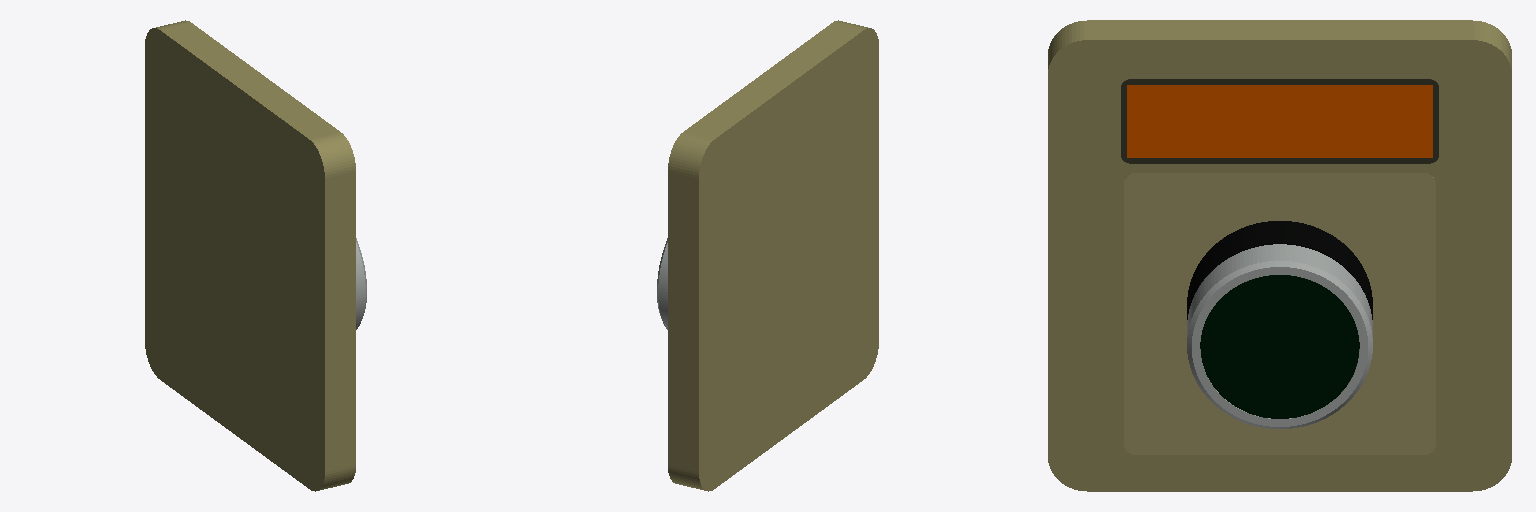
The robot description file, URDF, robot "protection_signal_reset_button":
<?xml version="1.0" ?>
<!-- =================================================================================== -->
<!-- |    This document was autogenerated by xacro from src/fugui_gazebo/urdf/fugui.urdf.xacro | -->
<!-- |    EDITING THIS FILE BY HAND IS NOT RECOMMENDED                                 | -->
<!-- =================================================================================== -->
<robot name="protection_signal_reset_button">
  <link name="fugui_mount_link">
    <inertial>
      <mass value="0.001"/>
      <inertia ixx="1.6666666666666669e-10" ixy="0" ixz="0" iyy="1.6666666666666669e-10" iyz="0" izz="1.6666666666666669e-10"/>
    </inertial>
  </link>
  <link name="world"/>
  <joint name="fugui_world_joint" type="fixed">
    <parent link="world"/>
    <child link="fugui_mount_link"/>
    <origin rpy="0 0 0" xyz="0 0 .12"/>
  </joint>
  <link name="fugui_frame_link">
    <inertial>
      <mass value="0.08"/>
      <inertia ixx="7.016666666666666e-05" ixy="0" ixz="0" iyy="3.782666666666667e-05" iyz="0" izz="3.299333333333334e-05"/>
    </inertial>
    <!-- Leave visual unnamed: Gazebo 11 applies link-level material extensions to its default visual. -->
    <visual>
      <origin xyz=".0035 0 0"/>
      <geometry>
        <mesh filename="package://fugui_gazebo/meshes/frame.stl"/>
      </geometry>
      <material name="frame_color">
        <color rgba="0.59 0.565 0.39 1"/>
      </material>
    </visual>
    <collision>
      <origin xyz=".0035 0 0"/>
      <geometry>
        <box size=".007 .07 .075"/>
      </geometry>
    </collision>
  </link>
  <joint name="fugui_mount_joint" type="fixed">
    <parent link="fugui_mount_link"/>
    <child link="fugui_frame_link"/>
    <origin xyz="0 0 0"/>
  </joint>
  <gazebo reference="fugui_frame_link">
    <visual>
      <material>
        <ambient>0.59 0.565 0.39 1</ambient>
        <diffuse>0.59 0.565 0.39 1</diffuse>
        <specular>0.2 0.2 0.2 1</specular>
      </material>
    </visual>
  </gazebo>
  <link name="fugui_insert_link">
    <inertial>
      <mass value="0.005"/>
      <inertia ixx="1.8408333333333334e-06" ixy="0" ixz="0" iyy="9.204541666666666e-07" iyz="0" izz="9.204541666666666e-07"/>
    </inertial>
    <!-- Leave visual unnamed: Gazebo 11 applies link-level material extensions to its default visual. -->
    <visual>
      <origin xyz=".00687 0 -.008"/>
      <geometry>
        <mesh filename="package://fugui_gazebo/meshes/insert.stl"/>
      </geometry>
      <material name="insert_color">
        <color rgba="0.64 0.61 0.44 1"/>
      </material>
    </visual>
  </link>
  <joint name="fugui_insert_joint" type="fixed">
    <parent link="fugui_frame_link"/>
    <child link="fugui_insert_link"/>
  </joint>
  <gazebo reference="fugui_insert_link">
    <visual>
      <material>
        <ambient>0.64 0.61 0.44 1</ambient>
        <diffuse>0.64 0.61 0.44 1</diffuse>
        <specular>0.2 0.2 0.2 1</specular>
      </material>
    </visual>
  </gazebo>
  <link name="fugui_label_link">
    <inertial>
      <mass value="0.001"/>
      <inertia ixx="2.0833333333333336e-07" ixy="0" ixz="0" iyy="1.6340833333333336e-08" iyz="0" izz="1.920075e-07"/>
    </inertial>
    <!-- Leave visual unnamed: Gazebo 11 applies link-level material extensions to its default visual. -->
    <visual>
      <origin xyz=".00687 0 .024"/>
      <geometry>
        <mesh filename="package://fugui_gazebo/meshes/label_recess.stl"/>
      </geometry>
      <material name="label_recess_color">
        <color rgba="0.25 0.245 0.19 1"/>
      </material>
    </visual>
  </link>
  <joint name="fugui_label_joint" type="fixed">
    <parent link="fugui_frame_link"/>
    <child link="fugui_label_link"/>
  </joint>
  <gazebo reference="fugui_label_link">
    <visual>
      <material>
        <ambient>0.25 0.245 0.19 1</ambient>
        <diffuse>0.25 0.245 0.19 1</diffuse>
        <specular>0.2 0.2 0.2 1</specular>
      </material>
    </visual>
  </gazebo>
  <link name="fugui_nameplate_link">
    <inertial>
      <mass value="0.001"/>
      <inertia ixx="1.8833333333333334e-07" ixy="0" ixz="0" iyy="1.2000833333333333e-08" iyz="0" izz="1.7633416666666667e-07"/>
    </inertial>
    <visual>
      <origin xyz=".00704 0 .024"/>
      <geometry>
        <mesh filename="package://fugui_gazebo/meshes/nameplate.dae"/>
      </geometry>
    </visual>
  </link>
  <joint name="fugui_nameplate_joint" type="fixed">
    <parent link="fugui_frame_link"/>
    <child link="fugui_nameplate_link"/>
  </joint>
  <link name="fugui_sleeve_link">
    <inertial>
      <mass value="0.02"/>
      <inertia ixx="2.613333333333334e-06" ixy="0" ixz="0" iyy="1.4133333333333337e-06" iyz="0" izz="1.4133333333333337e-06"/>
    </inertial>
    <!-- Leave visual unnamed: Gazebo 11 applies link-level material extensions to its default visual. -->
    <visual>
      <origin xyz=".007 0 -.0065"/>
      <geometry>
        <mesh filename="package://fugui_gazebo/meshes/rear_sleeve.stl"/>
      </geometry>
      <material name="rear_sleeve_color">
        <color rgba="0.055 0.060 0.055 1"/>
      </material>
    </visual>
    <collision>
      <origin rpy="0.0 0 0" xyz="0.011 0.013025 -0.0065"/>
      <geometry>
        <box size="0.008 0.00195 0.00238"/>
      </geometry>
    </collision>
    <collision>
      <origin rpy="0.19634954084936207 0 0" xyz="0.011 0.012774728277252076 -0.003958948555739929"/>
      <geometry>
        <box size="0.008 0.00195 0.00238"/>
      </geometry>
    </collision>
    <collision>
      <origin rpy="0.39269908169872414 0 0" xyz="0.011 0.01203353091095951 -0.0015155482934447054"/>
      <geometry>
        <box size="0.008 0.00195 0.00238"/>
      </geometry>
    </collision>
    <collision>
      <origin rpy="0.5890486225480862 0 0" xyz="0.011 0.010829891700240651 0.000736302285080319"/>
      <geometry>
        <box size="0.008 0.00195 0.00238"/>
      </geometry>
    </collision>
    <collision>
      <origin rpy="0.7853981633974483 0 0" xyz="0.011 0.009210065824954781 0.002710065824954782"/>
      <geometry>
        <box size="0.008 0.00195 0.00238"/>
      </geometry>
    </collision>
    <collision>
      <origin rpy="0.9817477042468103 0 0" xyz="0.011 0.00723630228508032 0.004329891700240652"/>
      <geometry>
        <box size="0.008 0.00195 0.00238"/>
      </geometry>
    </collision>
    <collision>
      <origin rpy="1.1780972450961724 0 0" xyz="0.011 0.004984451706555295 0.00553353091095951"/>
      <geometry>
        <box size="0.008 0.00195 0.00238"/>
      </geometry>
    </collision>
    <collision>
      <origin rpy="1.3744467859455345 0 0" xyz="0.011 0.0025410514442600713 0.006274728277252077"/>
      <geometry>
        <box size="0.008 0.00195 0.00238"/>
      </geometry>
    </collision>
    <collision>
      <origin rpy="1.5707963267948966 0 0" xyz="0.011 7.975512279447138e-19 0.006525"/>
      <geometry>
        <box size="0.008 0.00195 0.00238"/>
      </geometry>
    </collision>
    <collision>
      <origin rpy="1.7671458676442586 0 0" xyz="0.011 -0.0025410514442600696 0.006274728277252077"/>
      <geometry>
        <box size="0.008 0.00195 0.00238"/>
      </geometry>
    </collision>
    <collision>
      <origin rpy="1.9634954084936207 0 0" xyz="0.011 -0.004984451706555293 0.00553353091095951"/>
      <geometry>
        <box size="0.008 0.00195 0.00238"/>
      </geometry>
    </collision>
    <collision>
      <origin rpy="2.1598449493429825 0 0" xyz="0.011 -0.007236302285080315 0.004329891700240655"/>
      <geometry>
        <box size="0.008 0.00195 0.00238"/>
      </geometry>
    </collision>
    <collision>
      <origin rpy="2.356194490192345 0 0" xyz="0.011 -0.009210065824954781 0.002710065824954782"/>
      <geometry>
        <box size="0.008 0.00195 0.00238"/>
      </geometry>
    </collision>
    <collision>
      <origin rpy="2.552544031041707 0 0" xyz="0.011 -0.010829891700240653 0.000736302285080319"/>
      <geometry>
        <box size="0.008 0.00195 0.00238"/>
      </geometry>
    </collision>
    <collision>
      <origin rpy="2.748893571891069 0 0" xyz="0.011 -0.01203353091095951 -0.0015155482934447037"/>
      <geometry>
        <box size="0.008 0.00195 0.00238"/>
      </geometry>
    </collision>
    <collision>
      <origin rpy="2.945243112740431 0 0" xyz="0.011 -0.012774728277252076 -0.003958948555739925"/>
      <geometry>
        <box size="0.008 0.00195 0.00238"/>
      </geometry>
    </collision>
    <collision>
      <origin rpy="3.141592653589793 0 0" xyz="0.011 -0.013025 -0.006499999999999998"/>
      <geometry>
        <box size="0.008 0.00195 0.00238"/>
      </geometry>
    </collision>
    <collision>
      <origin rpy="3.3379421944391554 0 0" xyz="0.011 -0.012774728277252076 -0.009041051444260071"/>
      <geometry>
        <box size="0.008 0.00195 0.00238"/>
      </geometry>
    </collision>
    <collision>
      <origin rpy="3.5342917352885173 0 0" xyz="0.011 -0.012033530910959512 -0.011484451706555293"/>
      <geometry>
        <box size="0.008 0.00195 0.00238"/>
      </geometry>
    </collision>
    <collision>
      <origin rpy="3.730641276137879 0 0" xyz="0.011 -0.010829891700240655 -0.013736302285080316"/>
      <geometry>
        <box size="0.008 0.00195 0.00238"/>
      </geometry>
    </collision>
    <collision>
      <origin rpy="3.9269908169872414 0 0" xyz="0.011 -0.009210065824954783 -0.01571006582495478"/>
      <geometry>
        <box size="0.008 0.00195 0.00238"/>
      </geometry>
    </collision>
    <collision>
      <origin rpy="4.123340357836604 0 0" xyz="0.011 -0.007236302285080319 -0.01732989170024065"/>
      <geometry>
        <box size="0.008 0.00195 0.00238"/>
      </geometry>
    </collision>
    <collision>
      <origin rpy="4.319689898685965 0 0" xyz="0.011 -0.004984451706555302 -0.018533530910959505"/>
      <geometry>
        <box size="0.008 0.00195 0.00238"/>
      </geometry>
    </collision>
    <collision>
      <origin rpy="4.516039439535327 0 0" xyz="0.011 -0.0025410514442600757 -0.019274728277252073"/>
      <geometry>
        <box size="0.008 0.00195 0.00238"/>
      </geometry>
    </collision>
    <collision>
      <origin rpy="4.71238898038469 0 0" xyz="0.011 -2.392653683834141e-18 -0.019525"/>
      <geometry>
        <box size="0.008 0.00195 0.00238"/>
      </geometry>
    </collision>
    <collision>
      <origin rpy="4.908738521234052 0 0" xyz="0.011 0.0025410514442600713 -0.019274728277252077"/>
      <geometry>
        <box size="0.008 0.00195 0.00238"/>
      </geometry>
    </collision>
    <collision>
      <origin rpy="5.105088062083414 0 0" xyz="0.011 0.004984451706555298 -0.01853353091095951"/>
      <geometry>
        <box size="0.008 0.00195 0.00238"/>
      </geometry>
    </collision>
    <collision>
      <origin rpy="5.301437602932776 0 0" xyz="0.011 0.007236302285080314 -0.017329891700240654"/>
      <geometry>
        <box size="0.008 0.00195 0.00238"/>
      </geometry>
    </collision>
    <collision>
      <origin rpy="5.497787143782138 0 0" xyz="0.011 0.00921006582495478 -0.015710065824954784"/>
      <geometry>
        <box size="0.008 0.00195 0.00238"/>
      </geometry>
    </collision>
    <collision>
      <origin rpy="5.6941366846315 0 0" xyz="0.011 0.010829891700240651 -0.01373630228508032"/>
      <geometry>
        <box size="0.008 0.00195 0.00238"/>
      </geometry>
    </collision>
    <collision>
      <origin rpy="5.890486225480862 0 0" xyz="0.011 0.012033530910959506 -0.011484451706555302"/>
      <geometry>
        <box size="0.008 0.00195 0.00238"/>
      </geometry>
    </collision>
    <collision>
      <origin rpy="6.086835766330224 0 0" xyz="0.011 0.012774728277252075 -0.009041051444260076"/>
      <geometry>
        <box size="0.008 0.00195 0.00238"/>
      </geometry>
    </collision>
  </link>
  <joint name="fugui_sleeve_joint" type="fixed">
    <parent link="fugui_frame_link"/>
    <child link="fugui_sleeve_link"/>
  </joint>
  <gazebo reference="fugui_sleeve_link">
    <visual>
      <material>
        <ambient>0.055 0.060 0.055 1</ambient>
        <diffuse>0.055 0.060 0.055 1</diffuse>
        <specular>0.2 0.2 0.2 1</specular>
      </material>
    </visual>
  </gazebo>
  <link name="fugui_guard_link">
    <inertial>
      <mass value="0.025"/>
      <inertia ixx="3.266666666666667e-06" ixy="0" ixz="0" iyy="1.735416666666667e-06" iyz="0" izz="1.735416666666667e-06"/>
    </inertial>
    <!-- Leave visual unnamed: Gazebo 11 applies link-level material extensions to its default visual. -->
    <visual>
      <origin xyz=".015 0 -.0065"/>
      <geometry>
        <mesh filename="package://fugui_gazebo/meshes/guard_ring.stl"/>
      </geometry>
      <material name="guard_ring_color">
        <color rgba="0.67 0.69 0.68 1"/>
      </material>
    </visual>
    <collision>
      <origin rpy="0.0 0 0" xyz="0.0185 0.013025 -0.0065"/>
      <geometry>
        <box size="0.007 0.00195 0.00238"/>
      </geometry>
    </collision>
    <collision>
      <origin rpy="0.19634954084936207 0 0" xyz="0.0185 0.012774728277252076 -0.003958948555739929"/>
      <geometry>
        <box size="0.007 0.00195 0.00238"/>
      </geometry>
    </collision>
    <collision>
      <origin rpy="0.39269908169872414 0 0" xyz="0.0185 0.01203353091095951 -0.0015155482934447054"/>
      <geometry>
        <box size="0.007 0.00195 0.00238"/>
      </geometry>
    </collision>
    <collision>
      <origin rpy="0.5890486225480862 0 0" xyz="0.0185 0.010829891700240651 0.000736302285080319"/>
      <geometry>
        <box size="0.007 0.00195 0.00238"/>
      </geometry>
    </collision>
    <collision>
      <origin rpy="0.7853981633974483 0 0" xyz="0.0185 0.009210065824954781 0.002710065824954782"/>
      <geometry>
        <box size="0.007 0.00195 0.00238"/>
      </geometry>
    </collision>
    <collision>
      <origin rpy="0.9817477042468103 0 0" xyz="0.0185 0.00723630228508032 0.004329891700240652"/>
      <geometry>
        <box size="0.007 0.00195 0.00238"/>
      </geometry>
    </collision>
    <collision>
      <origin rpy="1.1780972450961724 0 0" xyz="0.0185 0.004984451706555295 0.00553353091095951"/>
      <geometry>
        <box size="0.007 0.00195 0.00238"/>
      </geometry>
    </collision>
    <collision>
      <origin rpy="1.3744467859455345 0 0" xyz="0.0185 0.0025410514442600713 0.006274728277252077"/>
      <geometry>
        <box size="0.007 0.00195 0.00238"/>
      </geometry>
    </collision>
    <collision>
      <origin rpy="1.5707963267948966 0 0" xyz="0.0185 7.975512279447138e-19 0.006525"/>
      <geometry>
        <box size="0.007 0.00195 0.00238"/>
      </geometry>
    </collision>
    <collision>
      <origin rpy="1.7671458676442586 0 0" xyz="0.0185 -0.0025410514442600696 0.006274728277252077"/>
      <geometry>
        <box size="0.007 0.00195 0.00238"/>
      </geometry>
    </collision>
    <collision>
      <origin rpy="1.9634954084936207 0 0" xyz="0.0185 -0.004984451706555293 0.00553353091095951"/>
      <geometry>
        <box size="0.007 0.00195 0.00238"/>
      </geometry>
    </collision>
    <collision>
      <origin rpy="2.1598449493429825 0 0" xyz="0.0185 -0.007236302285080315 0.004329891700240655"/>
      <geometry>
        <box size="0.007 0.00195 0.00238"/>
      </geometry>
    </collision>
    <collision>
      <origin rpy="2.356194490192345 0 0" xyz="0.0185 -0.009210065824954781 0.002710065824954782"/>
      <geometry>
        <box size="0.007 0.00195 0.00238"/>
      </geometry>
    </collision>
    <collision>
      <origin rpy="2.552544031041707 0 0" xyz="0.0185 -0.010829891700240653 0.000736302285080319"/>
      <geometry>
        <box size="0.007 0.00195 0.00238"/>
      </geometry>
    </collision>
    <collision>
      <origin rpy="2.748893571891069 0 0" xyz="0.0185 -0.01203353091095951 -0.0015155482934447037"/>
      <geometry>
        <box size="0.007 0.00195 0.00238"/>
      </geometry>
    </collision>
    <collision>
      <origin rpy="2.945243112740431 0 0" xyz="0.0185 -0.012774728277252076 -0.003958948555739925"/>
      <geometry>
        <box size="0.007 0.00195 0.00238"/>
      </geometry>
    </collision>
    <collision>
      <origin rpy="3.141592653589793 0 0" xyz="0.0185 -0.013025 -0.006499999999999998"/>
      <geometry>
        <box size="0.007 0.00195 0.00238"/>
      </geometry>
    </collision>
    <collision>
      <origin rpy="3.3379421944391554 0 0" xyz="0.0185 -0.012774728277252076 -0.009041051444260071"/>
      <geometry>
        <box size="0.007 0.00195 0.00238"/>
      </geometry>
    </collision>
    <collision>
      <origin rpy="3.5342917352885173 0 0" xyz="0.0185 -0.012033530910959512 -0.011484451706555293"/>
      <geometry>
        <box size="0.007 0.00195 0.00238"/>
      </geometry>
    </collision>
    <collision>
      <origin rpy="3.730641276137879 0 0" xyz="0.0185 -0.010829891700240655 -0.013736302285080316"/>
      <geometry>
        <box size="0.007 0.00195 0.00238"/>
      </geometry>
    </collision>
    <collision>
      <origin rpy="3.9269908169872414 0 0" xyz="0.0185 -0.009210065824954783 -0.01571006582495478"/>
      <geometry>
        <box size="0.007 0.00195 0.00238"/>
      </geometry>
    </collision>
    <collision>
      <origin rpy="4.123340357836604 0 0" xyz="0.0185 -0.007236302285080319 -0.01732989170024065"/>
      <geometry>
        <box size="0.007 0.00195 0.00238"/>
      </geometry>
    </collision>
    <collision>
      <origin rpy="4.319689898685965 0 0" xyz="0.0185 -0.004984451706555302 -0.018533530910959505"/>
      <geometry>
        <box size="0.007 0.00195 0.00238"/>
      </geometry>
    </collision>
    <collision>
      <origin rpy="4.516039439535327 0 0" xyz="0.0185 -0.0025410514442600757 -0.019274728277252073"/>
      <geometry>
        <box size="0.007 0.00195 0.00238"/>
      </geometry>
    </collision>
    <collision>
      <origin rpy="4.71238898038469 0 0" xyz="0.0185 -2.392653683834141e-18 -0.019525"/>
      <geometry>
        <box size="0.007 0.00195 0.00238"/>
      </geometry>
    </collision>
    <collision>
      <origin rpy="4.908738521234052 0 0" xyz="0.0185 0.0025410514442600713 -0.019274728277252077"/>
      <geometry>
        <box size="0.007 0.00195 0.00238"/>
      </geometry>
    </collision>
    <collision>
      <origin rpy="5.105088062083414 0 0" xyz="0.0185 0.004984451706555298 -0.01853353091095951"/>
      <geometry>
        <box size="0.007 0.00195 0.00238"/>
      </geometry>
    </collision>
    <collision>
      <origin rpy="5.301437602932776 0 0" xyz="0.0185 0.007236302285080314 -0.017329891700240654"/>
      <geometry>
        <box size="0.007 0.00195 0.00238"/>
      </geometry>
    </collision>
    <collision>
      <origin rpy="5.497787143782138 0 0" xyz="0.0185 0.00921006582495478 -0.015710065824954784"/>
      <geometry>
        <box size="0.007 0.00195 0.00238"/>
      </geometry>
    </collision>
    <collision>
      <origin rpy="5.6941366846315 0 0" xyz="0.0185 0.010829891700240651 -0.01373630228508032"/>
      <geometry>
        <box size="0.007 0.00195 0.00238"/>
      </geometry>
    </collision>
    <collision>
      <origin rpy="5.890486225480862 0 0" xyz="0.0185 0.012033530910959506 -0.011484451706555302"/>
      <geometry>
        <box size="0.007 0.00195 0.00238"/>
      </geometry>
    </collision>
    <collision>
      <origin rpy="6.086835766330224 0 0" xyz="0.0185 0.012774728277252075 -0.009041051444260076"/>
      <geometry>
        <box size="0.007 0.00195 0.00238"/>
      </geometry>
    </collision>
  </link>
  <joint name="fugui_guard_joint" type="fixed">
    <parent link="fugui_frame_link"/>
    <child link="fugui_guard_link"/>
  </joint>
  <gazebo reference="fugui_guard_link">
    <visual>
      <material>
        <ambient>0.67 0.69 0.68 1</ambient>
        <diffuse>0.67 0.69 0.68 1</diffuse>
        <specular>0.85 0.85 0.85 1</specular>
      </material>
    </visual>
  </gazebo>
  <link name="fugui_button_link">
    <inertial>
      <mass value=".01"/>
      <inertia ixx=".00000072" ixy="0" ixz="0" iyy=".000000363333" iyz="0" izz=".000000363333"/>
    </inertial>
    <visual>
      <origin rpy="0 1.5707963267948966 0"/>
      <geometry>
        <cylinder length=".002" radius=".012"/>
      </geometry>
      <material name="dark_green">
        <color rgba=".005 .12 .045 1"/>
      </material>
    </visual>
    <collision>
      <origin rpy="0 1.5707963267948966 0"/>
      <geometry>
        <cylinder length=".002" radius=".012"/>
      </geometry>
    </collision>
  </link>
  <joint name="fugui_press_joint" type="prismatic">
    <parent link="fugui_frame_link"/>
    <child link="fugui_button_link"/>
    <origin xyz=".021 0 -.0065"/>
    <axis xyz="-1 0 0"/>
    <limit effort="10" lower="0" upper="0.004" velocity=".1"/>
    <dynamics damping="0" friction="0"/>
  </joint>
  <gazebo reference="fugui_button_link">
    <visual>
      <material>
        <ambient>.005 .12 .045 1</ambient>
        <diffuse>.005 .12 .045 1</diffuse>
        <specular>.3 .5 .35 1</specular>
      </material>
    </visual>
  </gazebo>
  <gazebo reference="fugui_button_link">
    <gravity>false</gravity>
    <mu1>0.7</mu1>
    <mu2>0.7</mu2>
    <kp>100000</kp>
    <kd>1</kd>
    <minDepth>0.000001</minDepth>
    <maxVel>0.01</maxVel>
  </gazebo>
  <gazebo>
    <plugin filename="libfugui_button_plugin.so" name="fugui_button_control">
      <robotNamespace>/fugui</robotNamespace>
      <prefix>fugui_</prefix>
      <valid_min>0.003</valid_min>
      <valid_max>0.004</valid_max>
      <rearm_depth>0.0005</rearm_depth>
      <lamp_duration>1.0</lamp_duration>
      <numerical_tolerance>1e-06</numerical_tolerance>
      <stiffness>120.0</stiffness>
      <damping>1.5</damping>
    </plugin>
  </gazebo>
</robot>

--- Render facts (derived) ---
Views: 3 orthographic renders of the robot side by side, from view 1: azimuth 30°, elevation 25°; view 2: azimuth 150°, elevation 25°; view 3: azimuth 270°, elevation 25°.
Robot: protection_signal_reset_button — 9 links, 8 joints (1 prismatic, 7 fixed); root link world; default pose: every joint at zero.
Visible links, largest first — view 1: fugui_frame_link, fugui_guard_link; view 2: fugui_frame_link, fugui_guard_link; view 3: fugui_frame_link, fugui_insert_link, fugui_nameplate_link, fugui_button_link, fugui_guard_link, fugui_label_link, fugui_sleeve_link.
Boxes of the visible links, bbox=[...] form: fugui_frame_link: bbox=[145, 20, 355, 491]; fugui_guard_link: bbox=[356, 238, 366, 329]; fugui_frame_link: bbox=[668, 20, 878, 491]; fugui_guard_link: bbox=[657, 238, 667, 329]; fugui_frame_link: bbox=[1048, 20, 1511, 491]; fugui_insert_link: bbox=[1124, 173, 1435, 454]; fugui_nameplate_link: bbox=[1127, 85, 1432, 157]; fugui_button_link: bbox=[1200, 275, 1359, 418]; fugui_guard_link: bbox=[1187, 244, 1372, 428]; fugui_label_link: bbox=[1121, 79, 1438, 163]; fugui_sleeve_link: bbox=[1187, 221, 1372, 319].
Bounding box of the posed robot: 0.022 × 0.07 × 0.075 m (x, y, z).
Meshes: 6 distinct files referenced, 6 mesh visuals loaded (5 binary STL, 1 Collada DAE).
